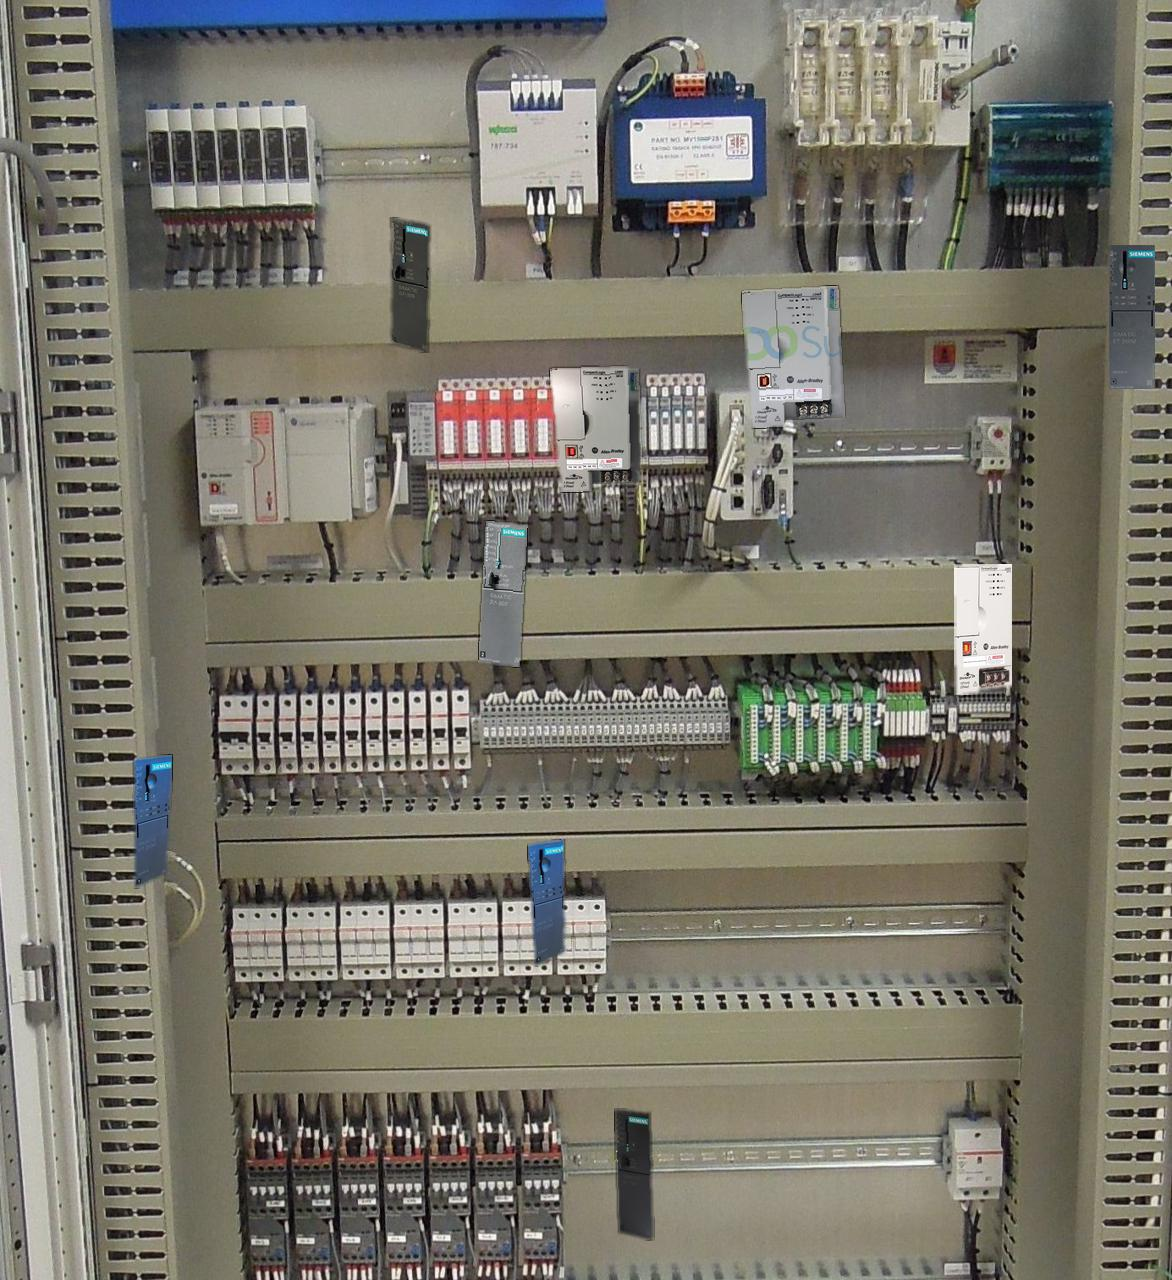AllenBradley: (742, 287, 843, 427), (550, 367, 640, 491), (955, 564, 1011, 694)
Siemens: (478, 521, 527, 666), (391, 217, 429, 352), (616, 1111, 652, 1239)
